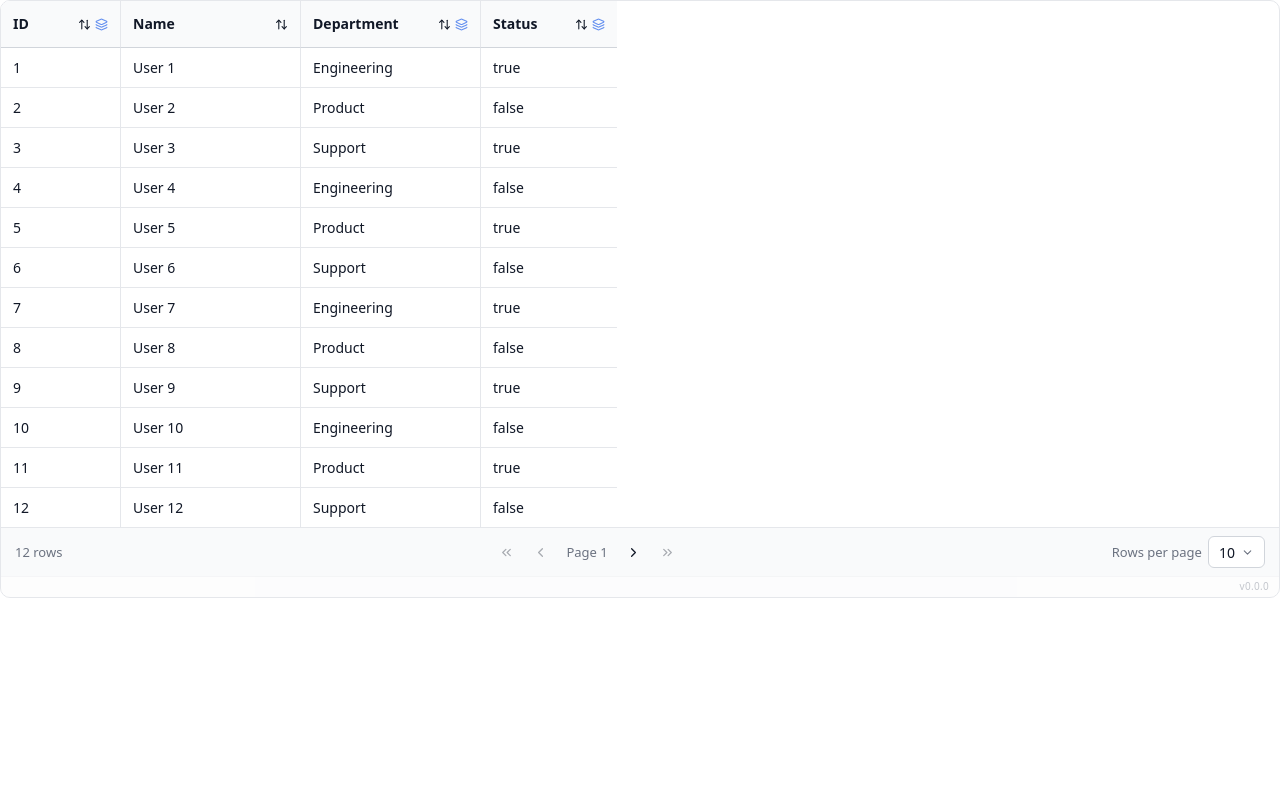
Test case: DataTable - pagination › server mode with unknown total pages remains predictable
Expected: the text "Page 1" is shown, [566,543,608,561]
Expected: the button named "Last page" is disabled, [652,536,684,568]
What coordinates should you click on to do the following:
click the button named "Next page"
I would click on:
 (634, 552)
Its box is [618,536,650,568].
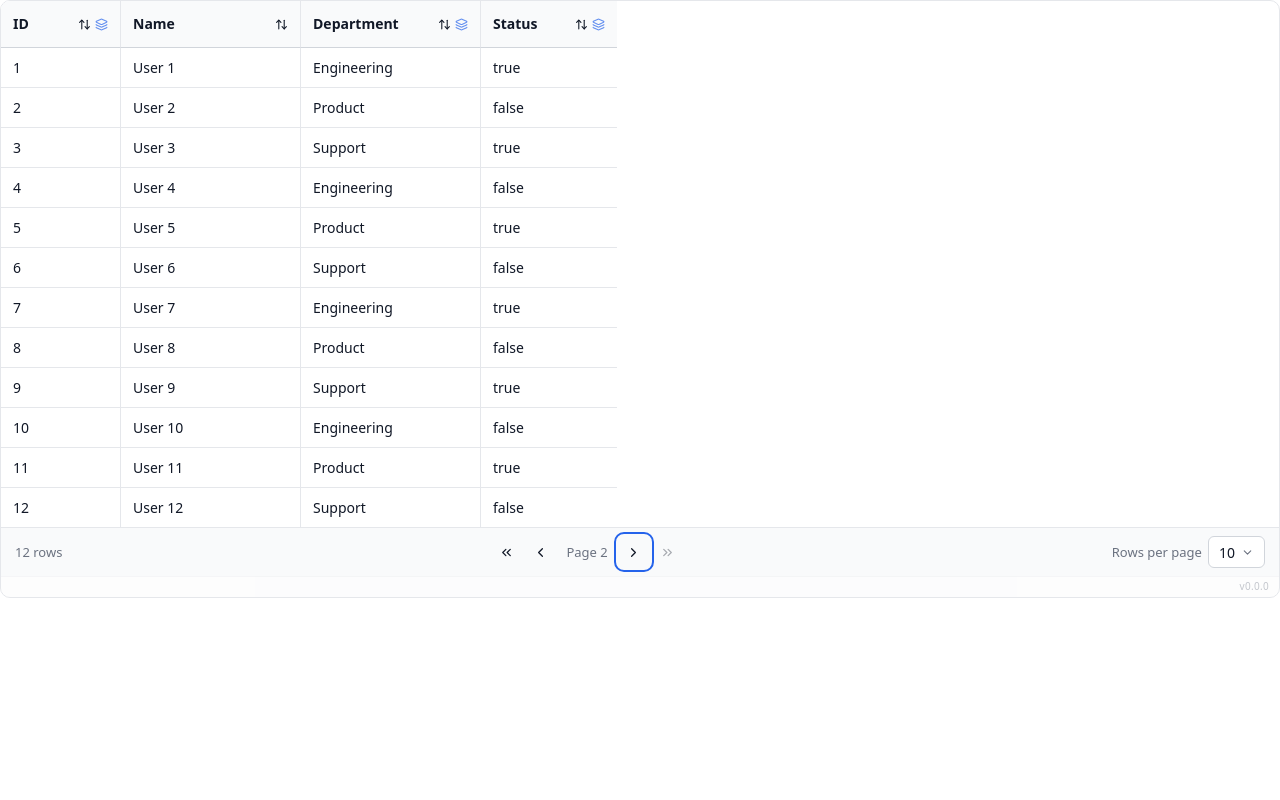
Expected: the button named "Last page" is disabled, [652,536,684,568]
Expected: the text "Page 2" is shown, [566,543,608,561]
